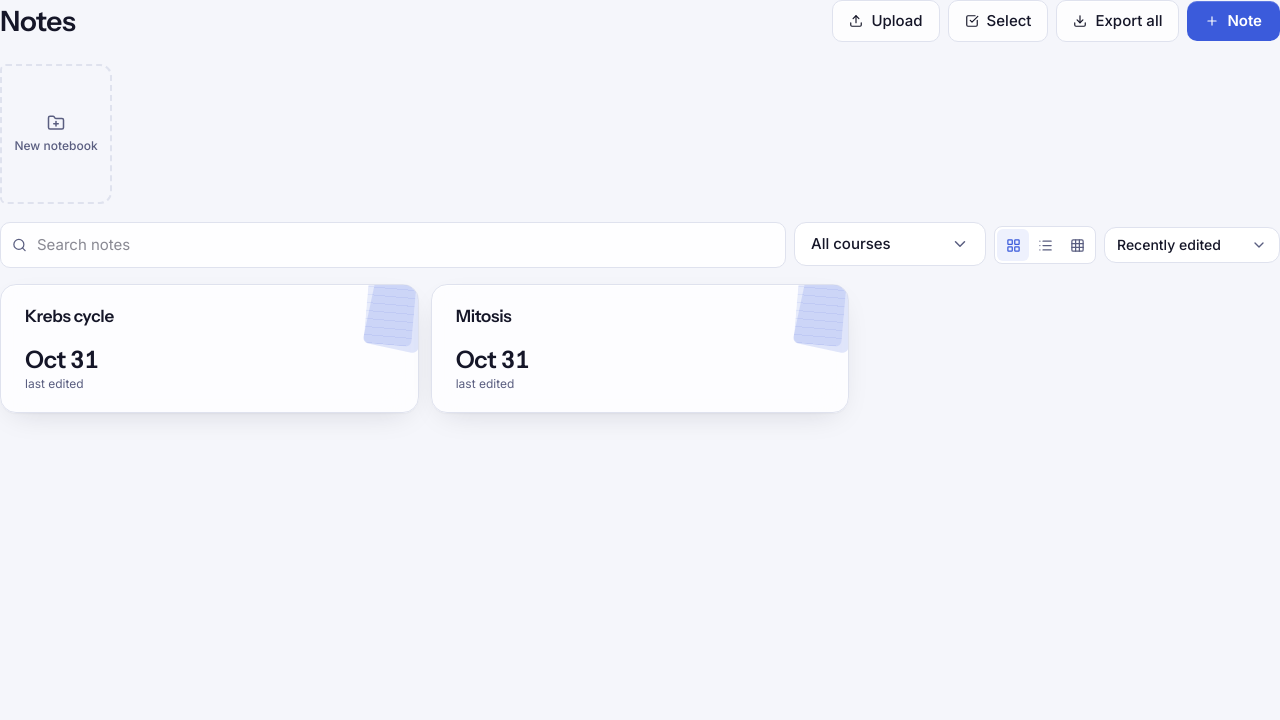
it: notes list quick actions › Delete asks first, then deletes and removes it from the list
expect the text "Krebs cycle" is shown: met, box [25,306,114,326]
Right-click the link "Krebs cycle Oct 31 last edited" at (69, 316), box [0,284,419,413]
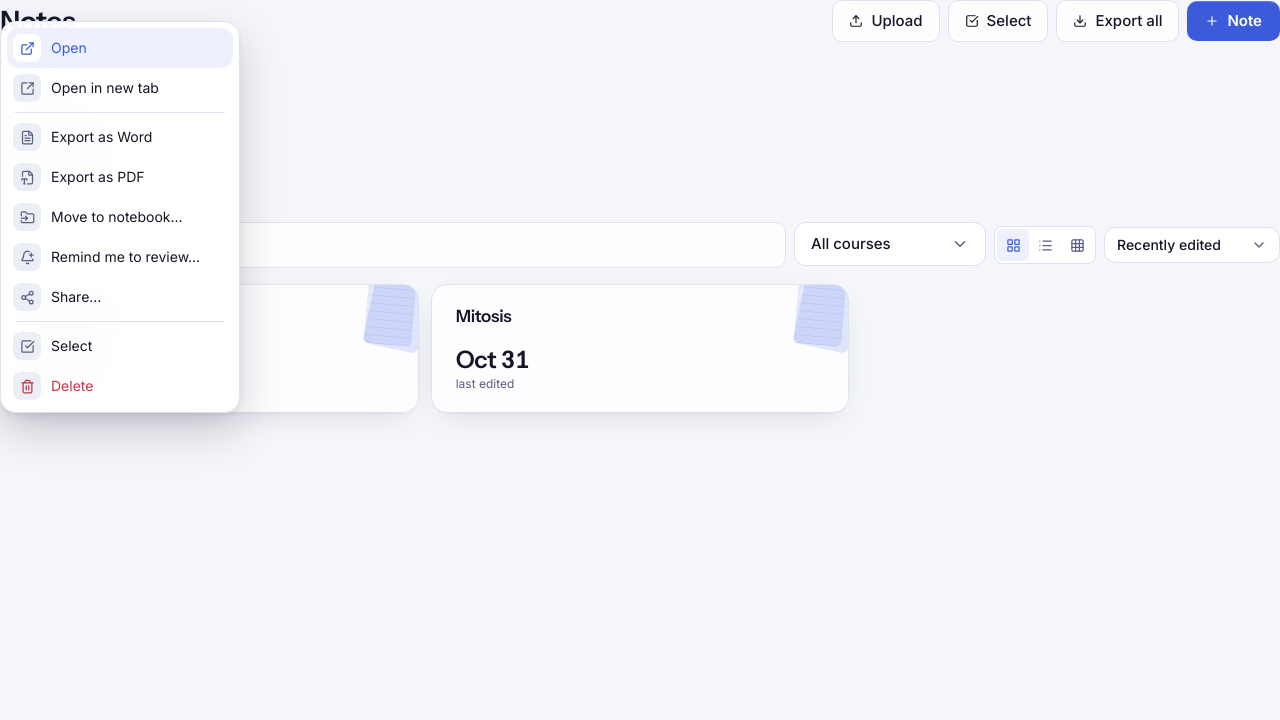
Click the menu item "Delete" at (120, 386), box [7,366,233,406]
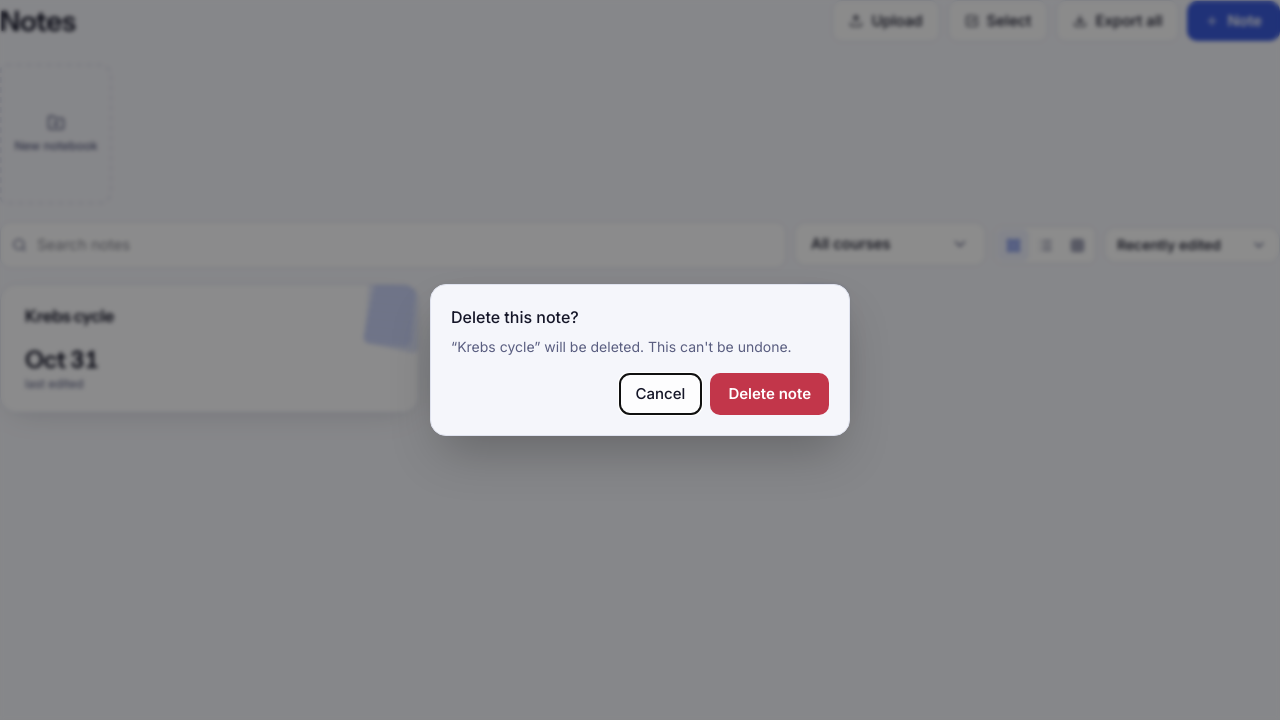
Click the button "Delete note" at (770, 394), box [710,373,829,415]
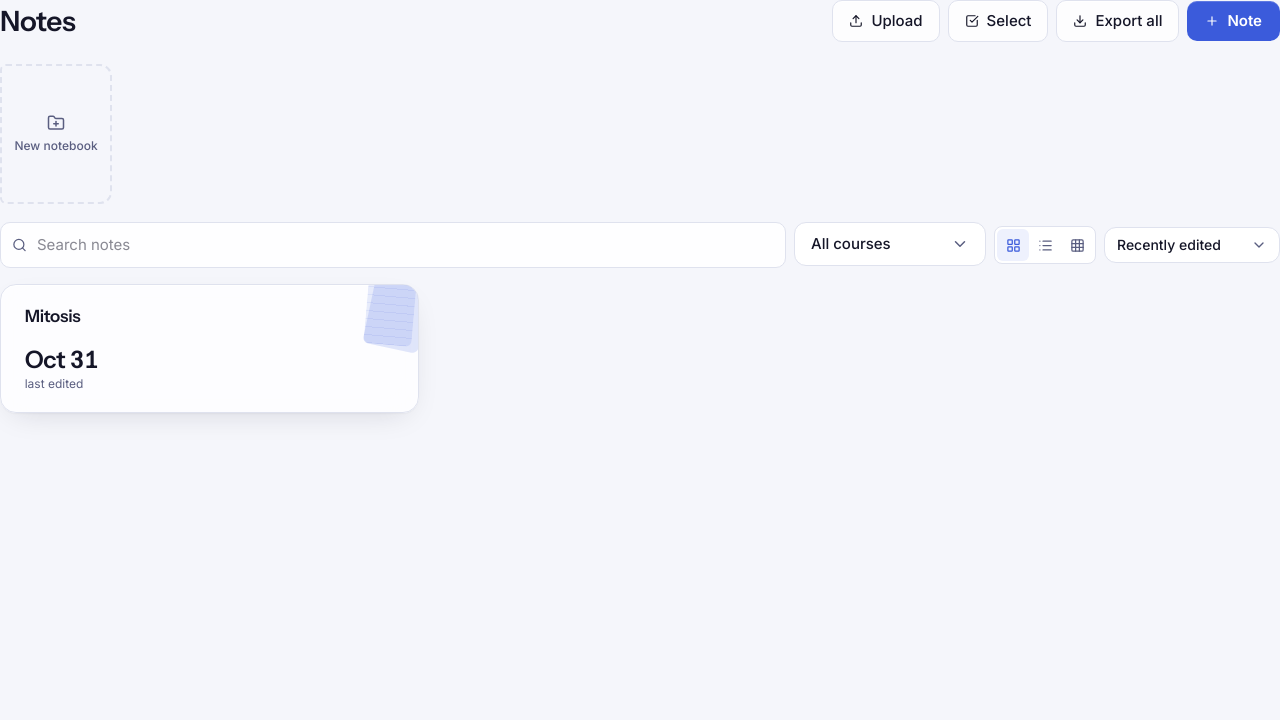
expect the link "Krebs cycle" is gone: met
